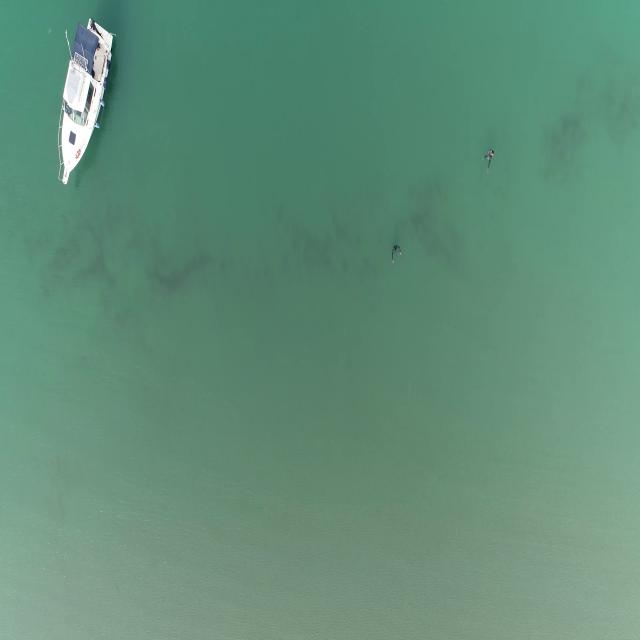boat: (56, 18, 118, 186)
person: (484, 146, 496, 174), (389, 241, 403, 263)
